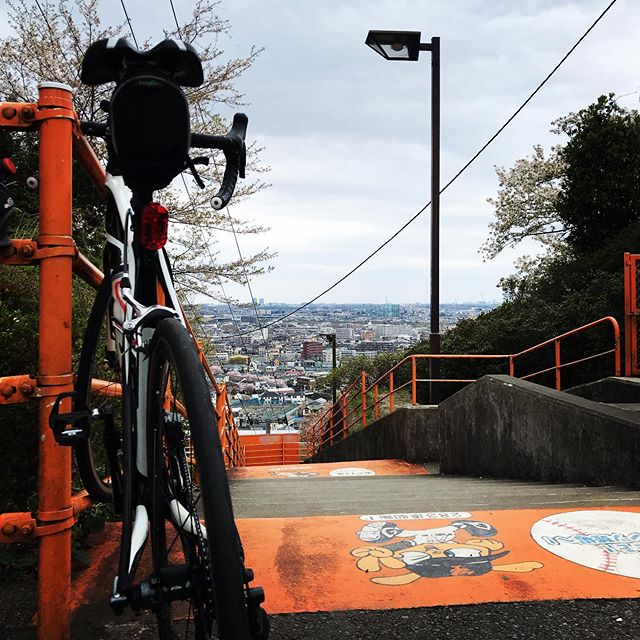bicicle: (82, 96, 269, 640)
light pole: (366, 22, 455, 361)
sky: (211, 1, 640, 293)
tree: (506, 87, 640, 320)
